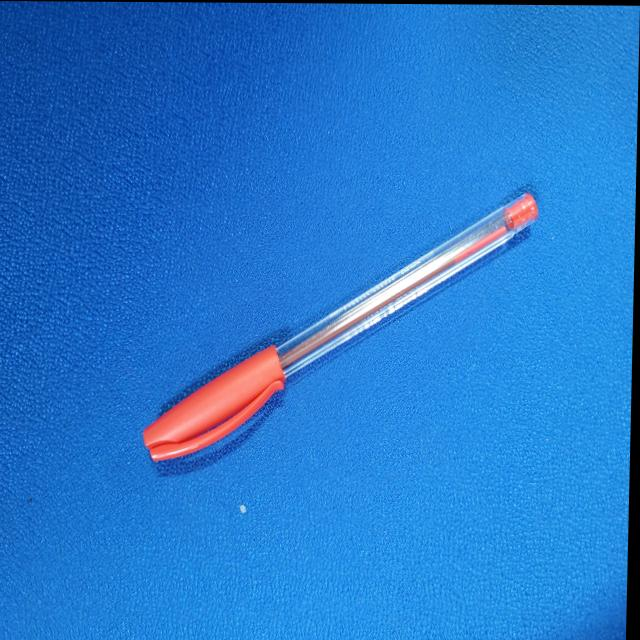caneta: (140, 165, 545, 471)
